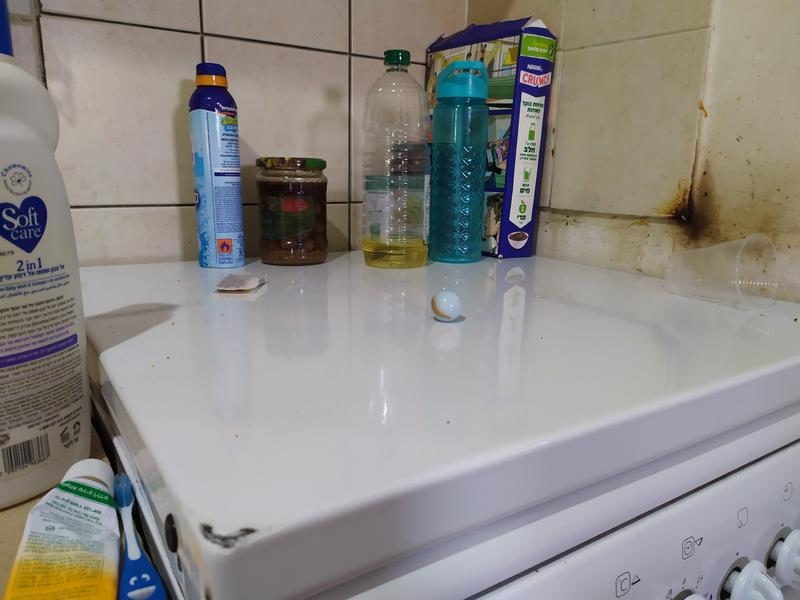Warning: (429, 288, 464, 324)
